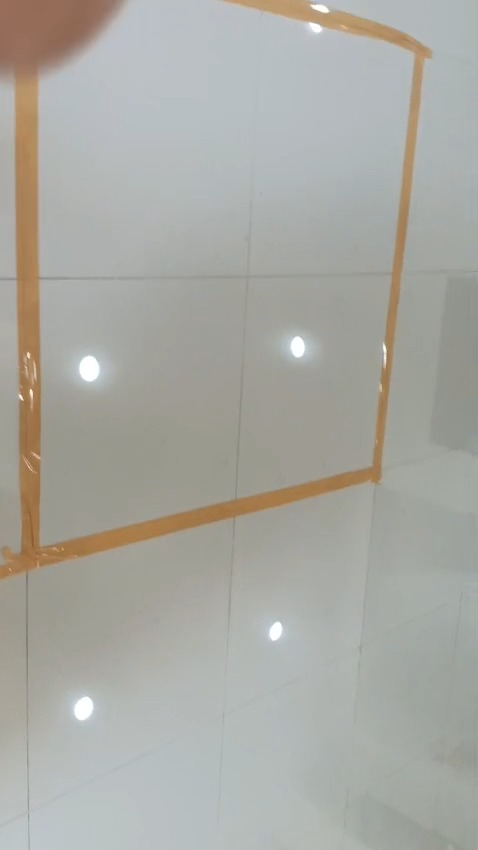floor marking: (0, 0, 431, 578)
